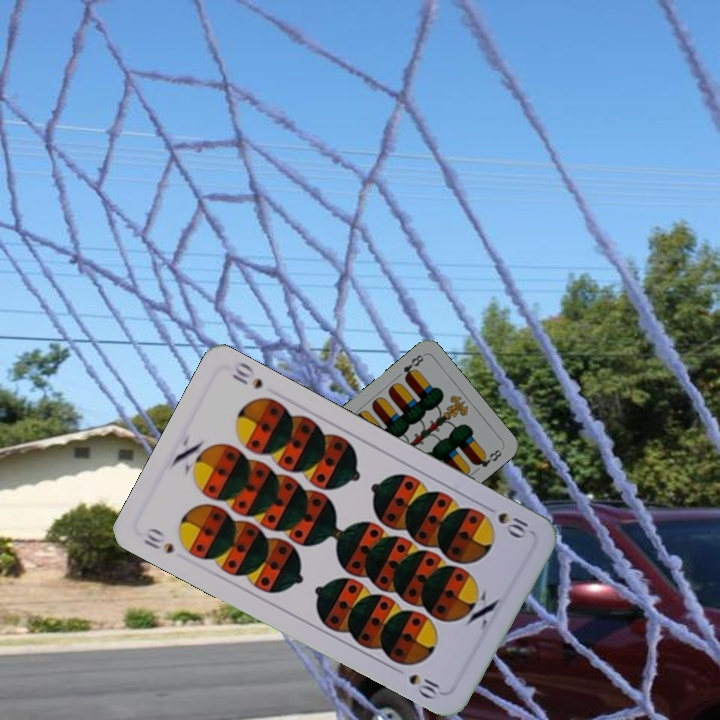E8: (399, 350, 426, 383)
S10: (480, 501, 531, 542), (139, 523, 177, 557)
